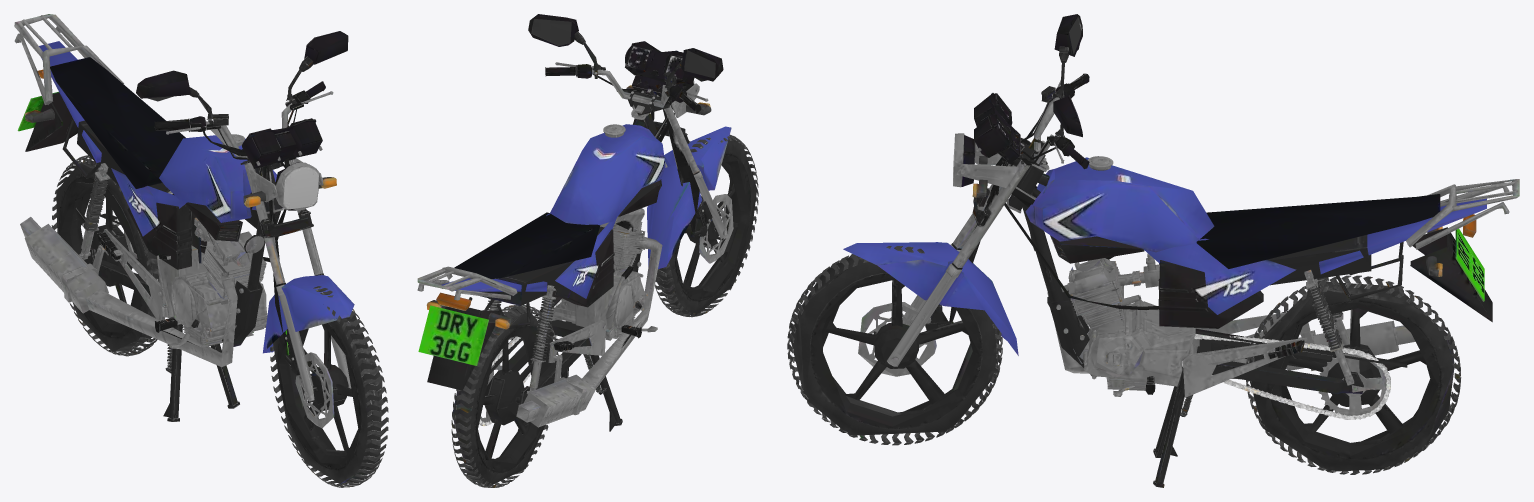
3 views of the same model, side by side, from view 1: azimuth 30°, elevation 25°; view 2: azimuth 150°, elevation 25°; view 3: azimuth 270°, elevation 25° (orthographic). The views are drawn at different scales.
Visible parts, largest first — view 1: defaultMaterial; view 2: defaultMaterial; view 3: defaultMaterial.
Part boxes in pixels (box(x1,y1,x2,y2)): defaultMaterial: box(14, 14, 388, 487); defaultMaterial: box(417, 14, 758, 487); defaultMaterial: box(787, 14, 1519, 487).
Size of the model in its own units: 5515 by 9966 by 16011.
Materials: 1 (1 with a texture image).
